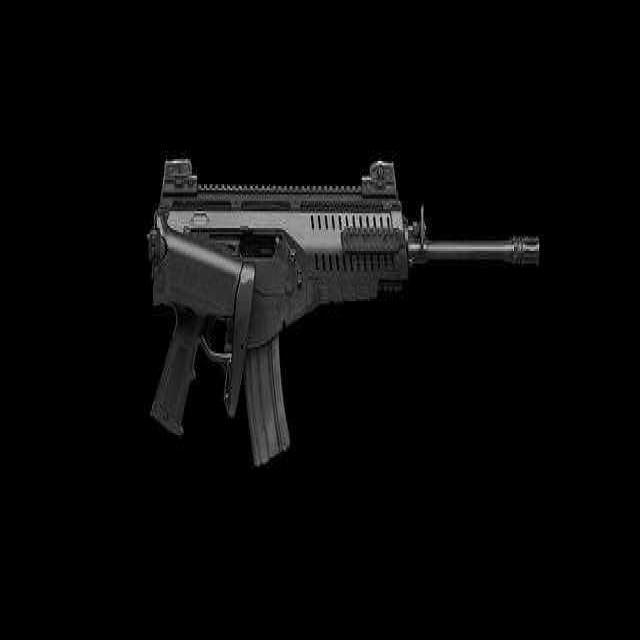weapon: (121, 71, 556, 510)
